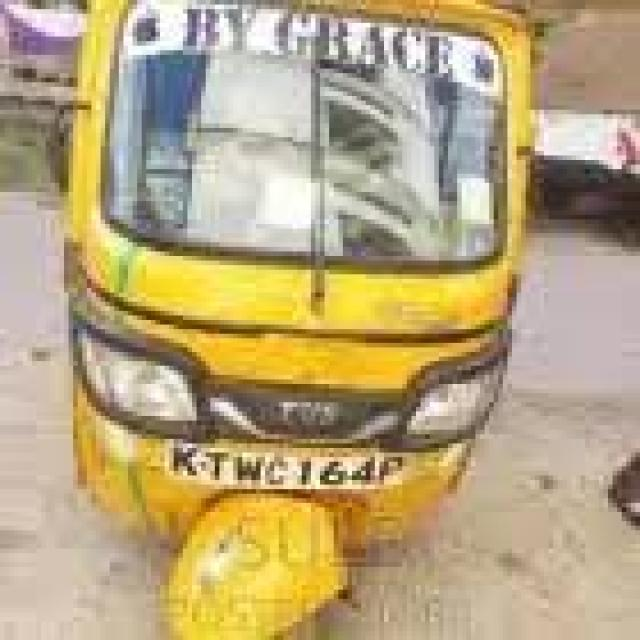tuktuk: (48, 0, 548, 640)
